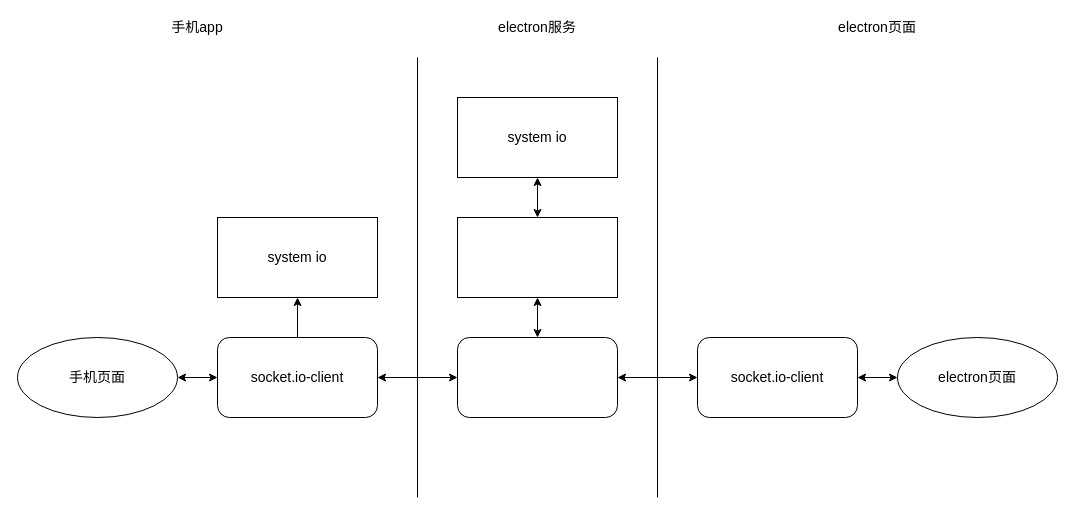
This 1075x516 diagram has some shape labels left out. The shapes that lost their labels are listed below. From the top down, each one's centre as x and y in pixels, then its label:
At (x=537, y=257): "electron server".
At (x=537, y=377): "socket.io-server".
